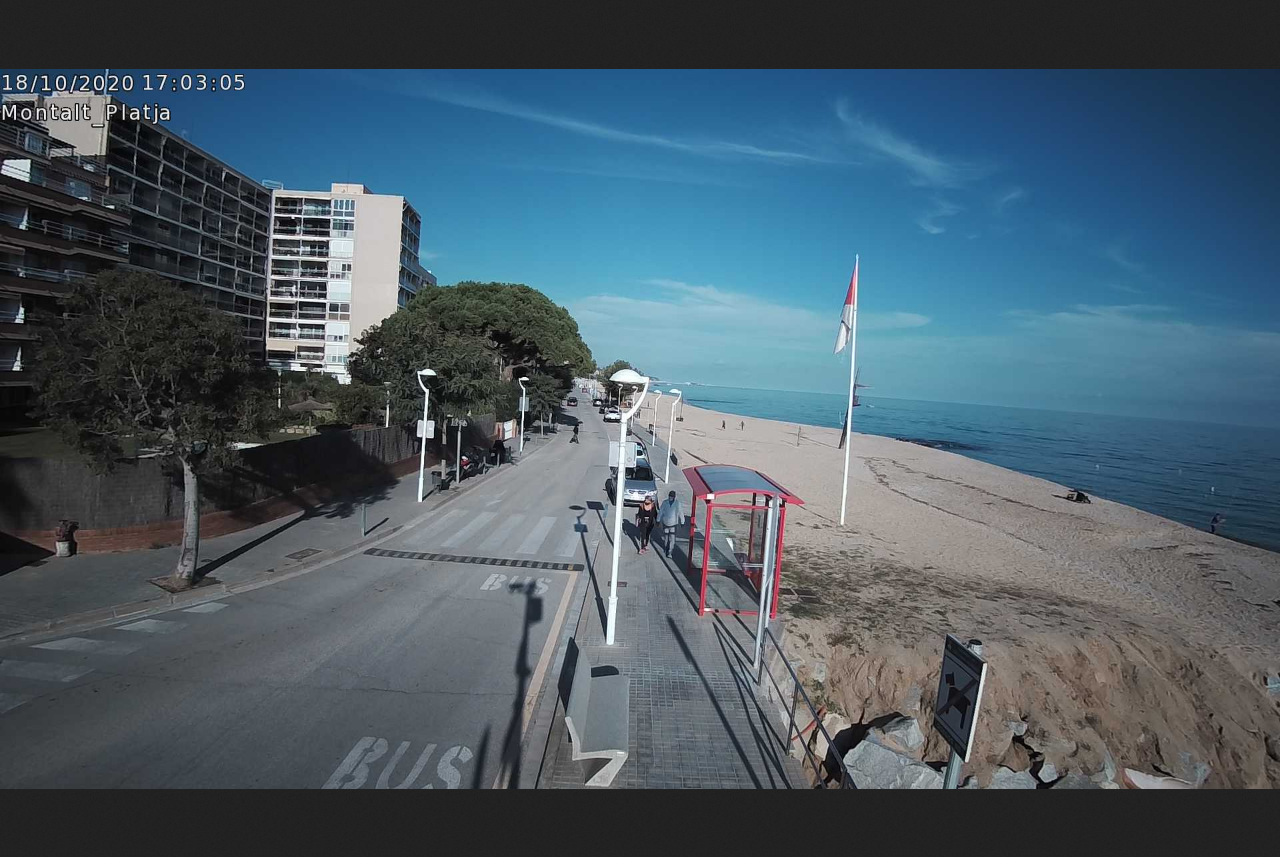no: (832, 250, 861, 357)
